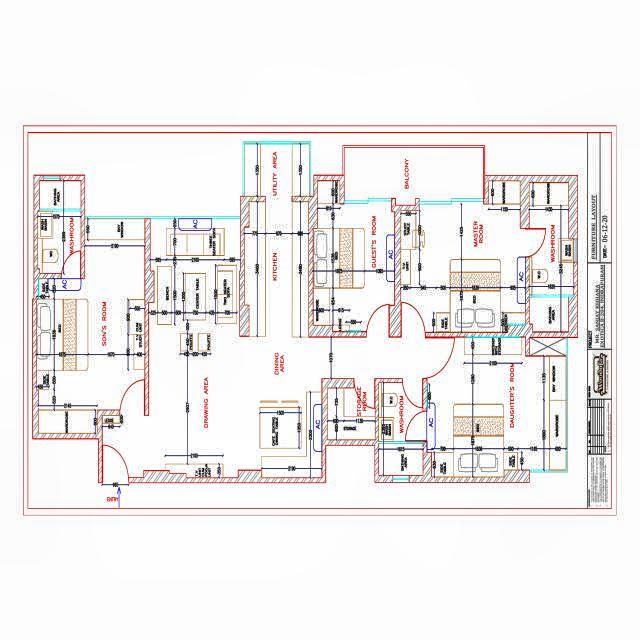room: (148, 217, 239, 478), (38, 218, 145, 433), (427, 337, 566, 476), (400, 181, 525, 332), (313, 181, 395, 332), (245, 201, 309, 336), (261, 336, 322, 477), (344, 148, 484, 197), (529, 182, 574, 332), (379, 383, 423, 475), (40, 182, 80, 273), (245, 144, 309, 196), (328, 388, 375, 440)
